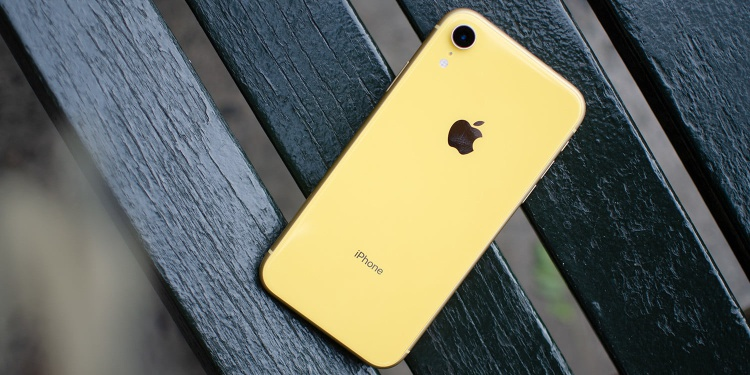apple: (430, 110, 493, 173)
